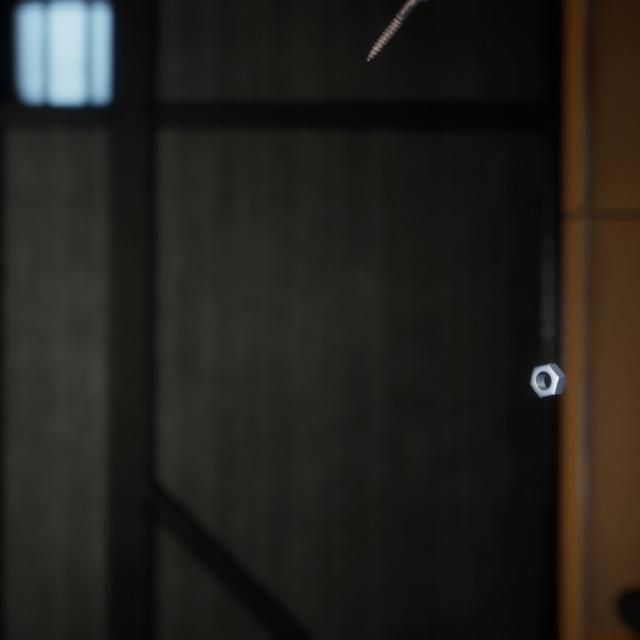bolt: (362, 0, 420, 57)
nut: (525, 339, 570, 383)
